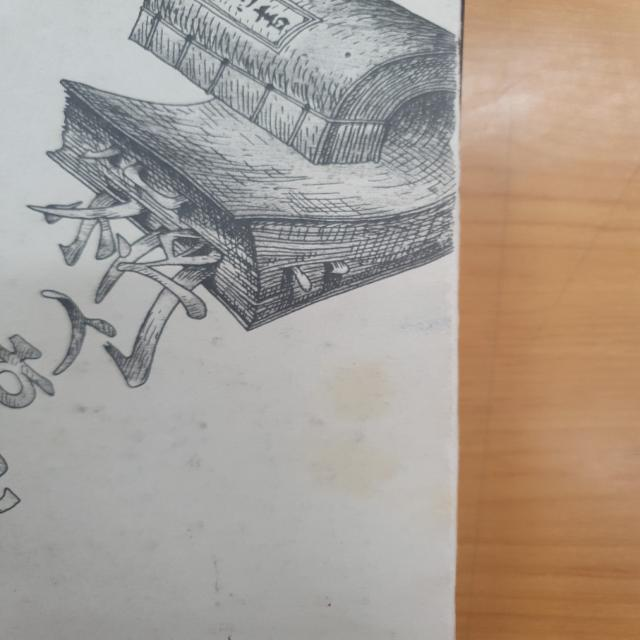Wornout: (438, 0, 486, 253)
